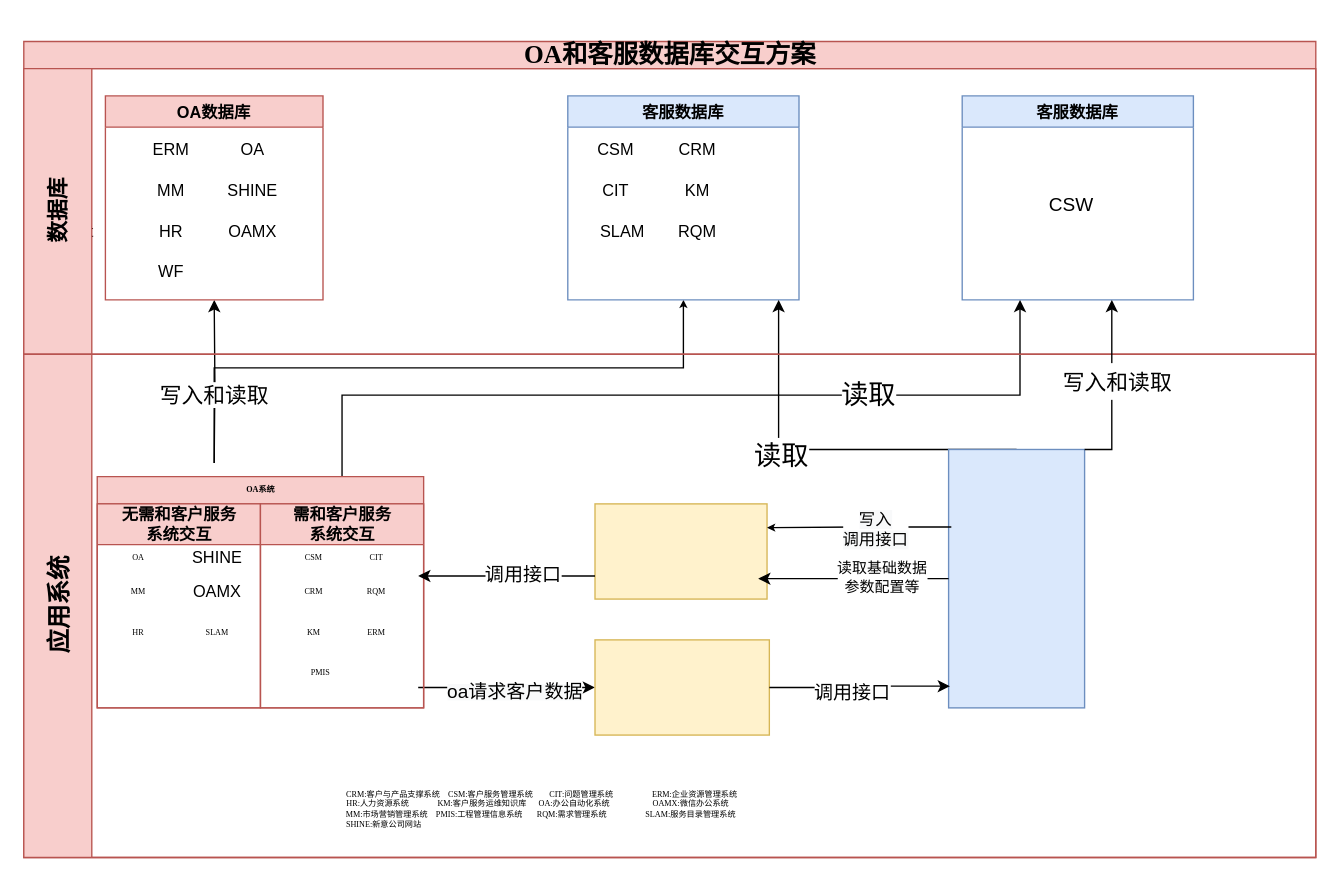
Image size: 1340x881. Some labels were removed from this diagram. Each missing label, with the centre of its shape:
oa 提供的hessian 包: the point at 680,551
客户服务系统: the point at 1016,578
客户服务系统提供的 hessian 包: the point at 681,687
